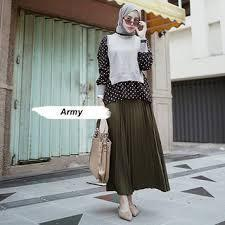skirt: (99, 86, 171, 196)
